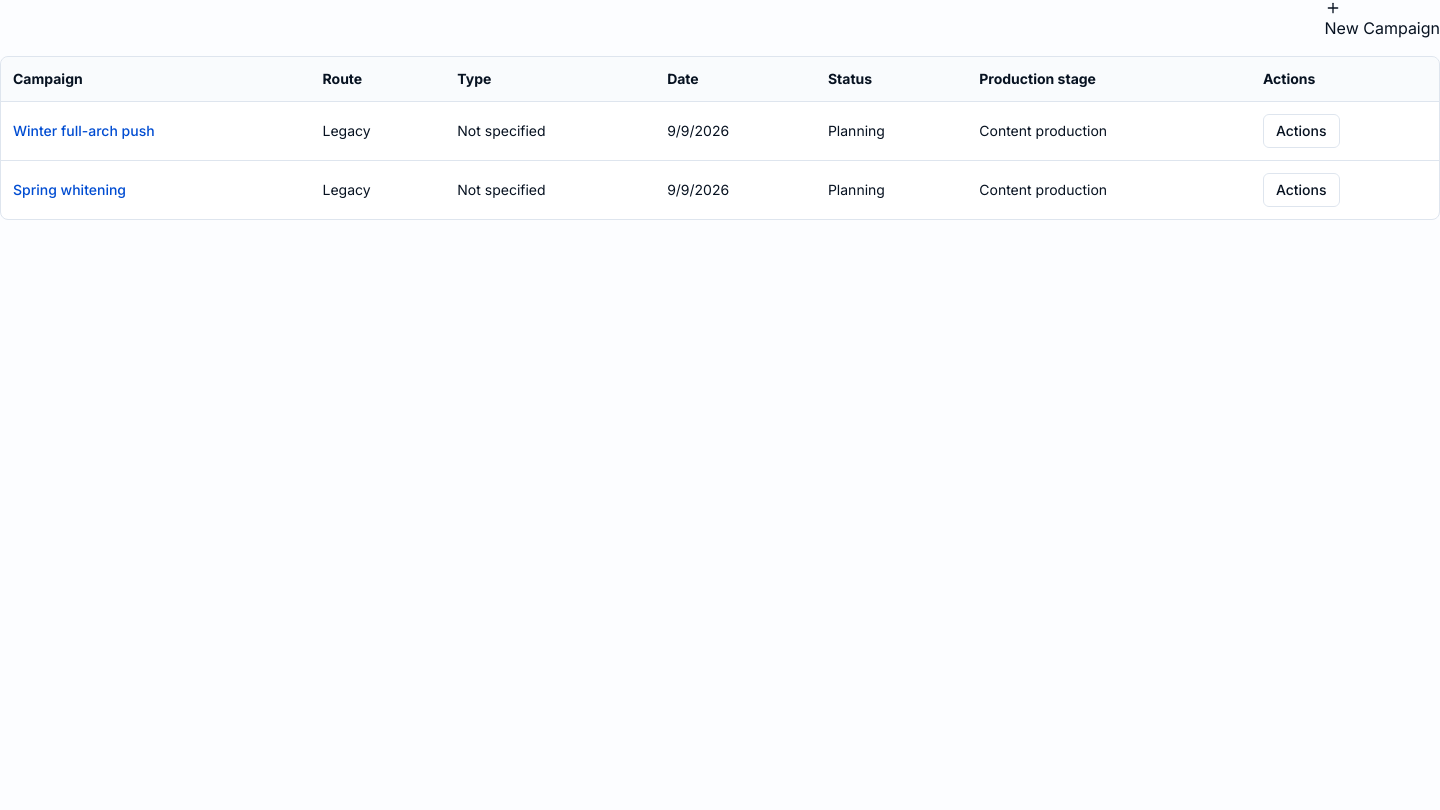
Scenario: campaign pages › shows the v2 campaign table and opens a campaign through its name
Expected: the table is shown, x1=1 y1=57 x2=1439 y2=219
Expected: the column heading "Date" is shown, x1=655 y1=57 x2=816 y2=102
Click the button "Actions" in the row of "Winter full-arch push" at (1301, 131), box x1=1263 y1=114 x2=1340 y2=148
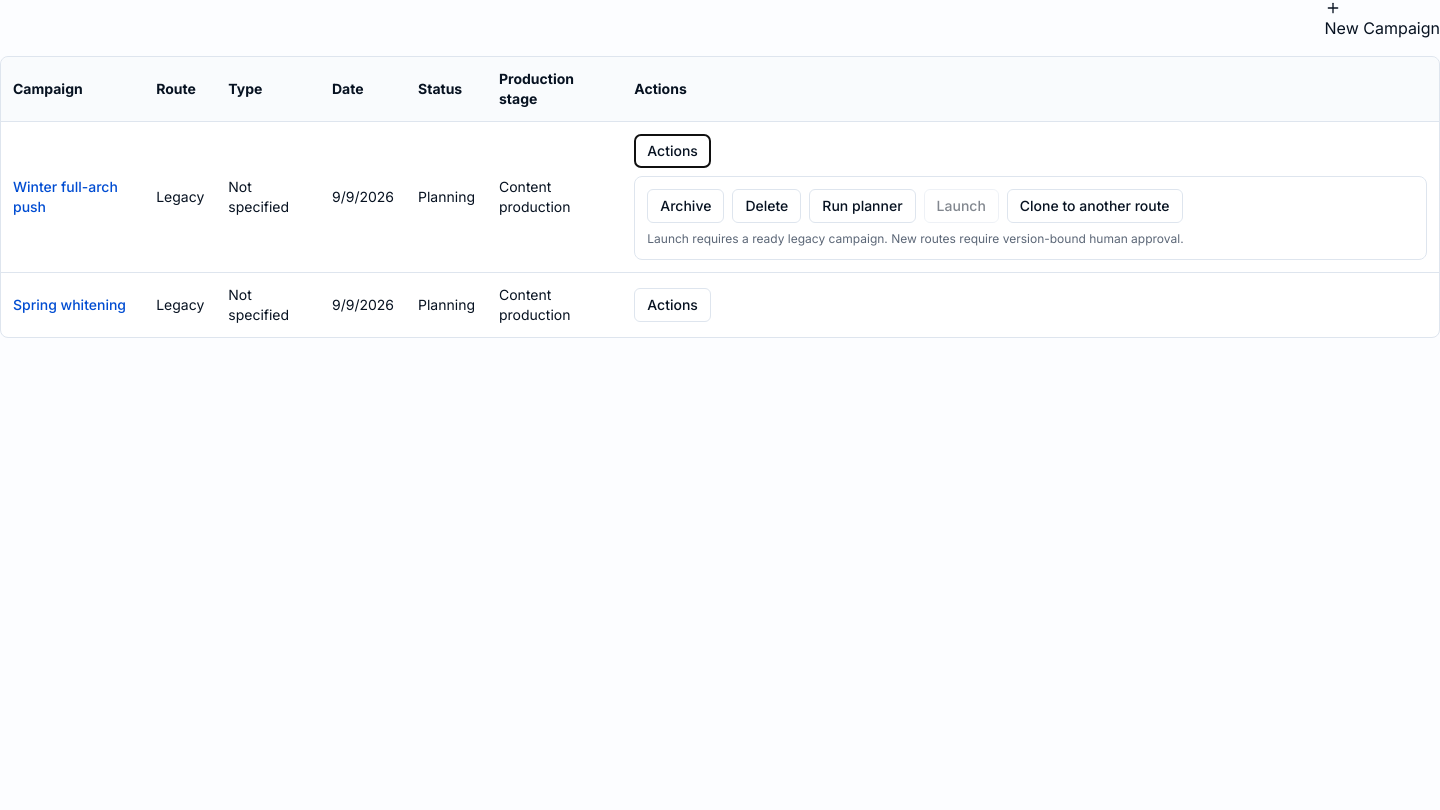
Click the button "Archive" at (686, 206), box x1=647 y1=189 x2=724 y2=223
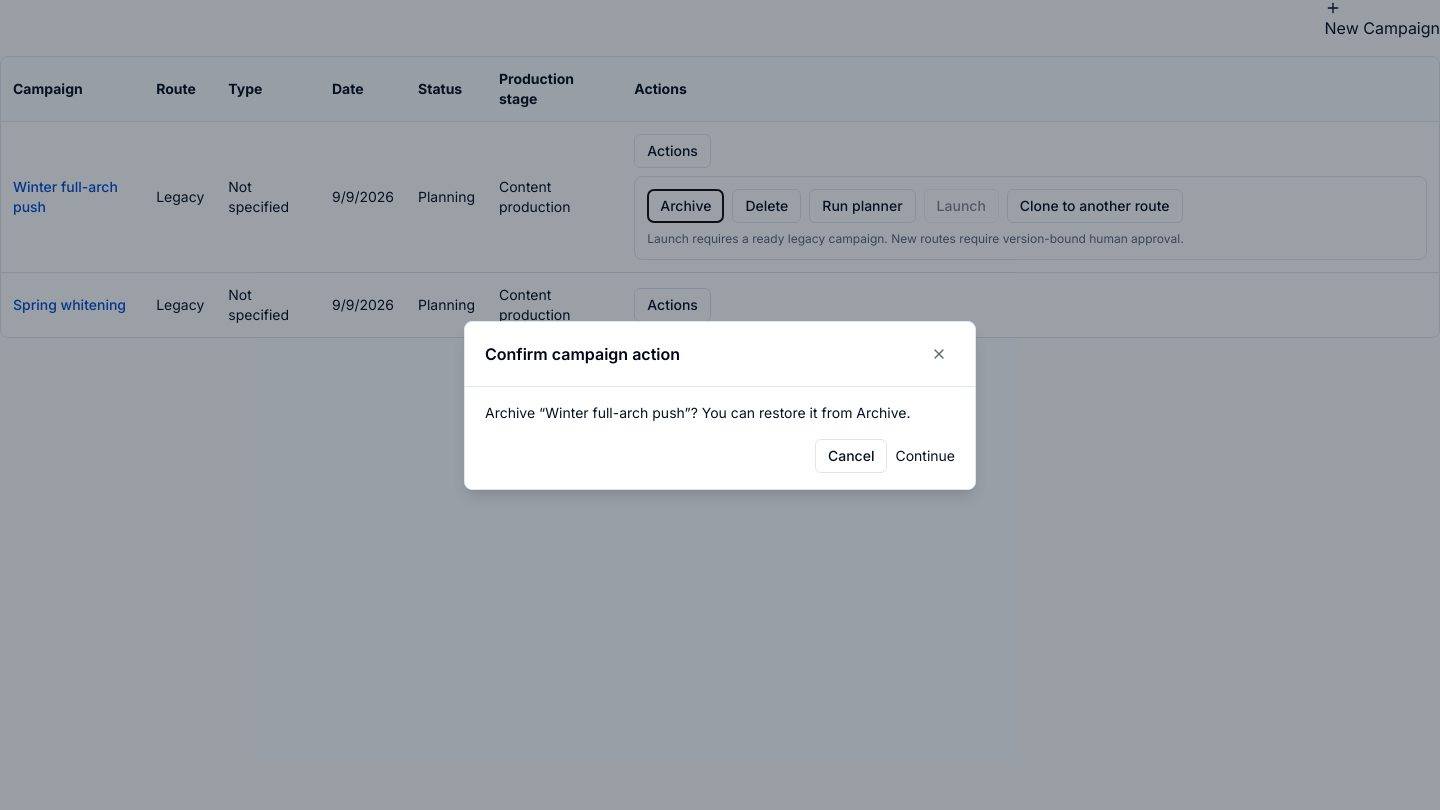
Now the dialog "Confirm campaign action" shows "Archive", box x1=485 y1=404 x2=910 y2=420
